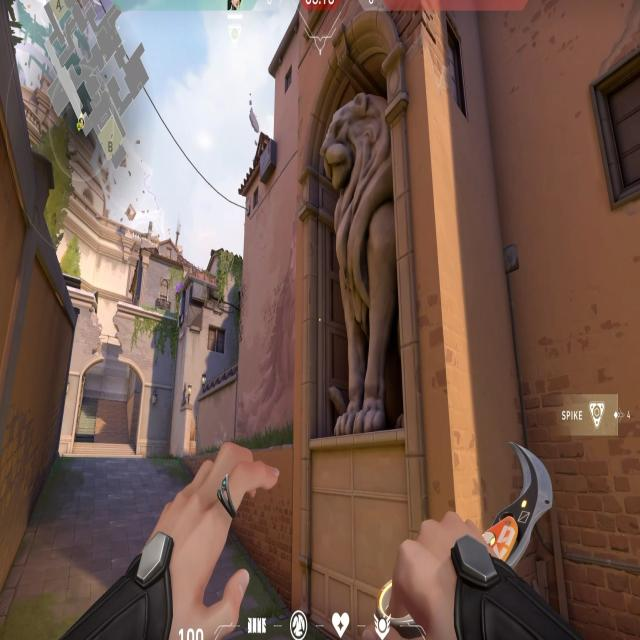Lion_Corner: (300, 0, 418, 478)
